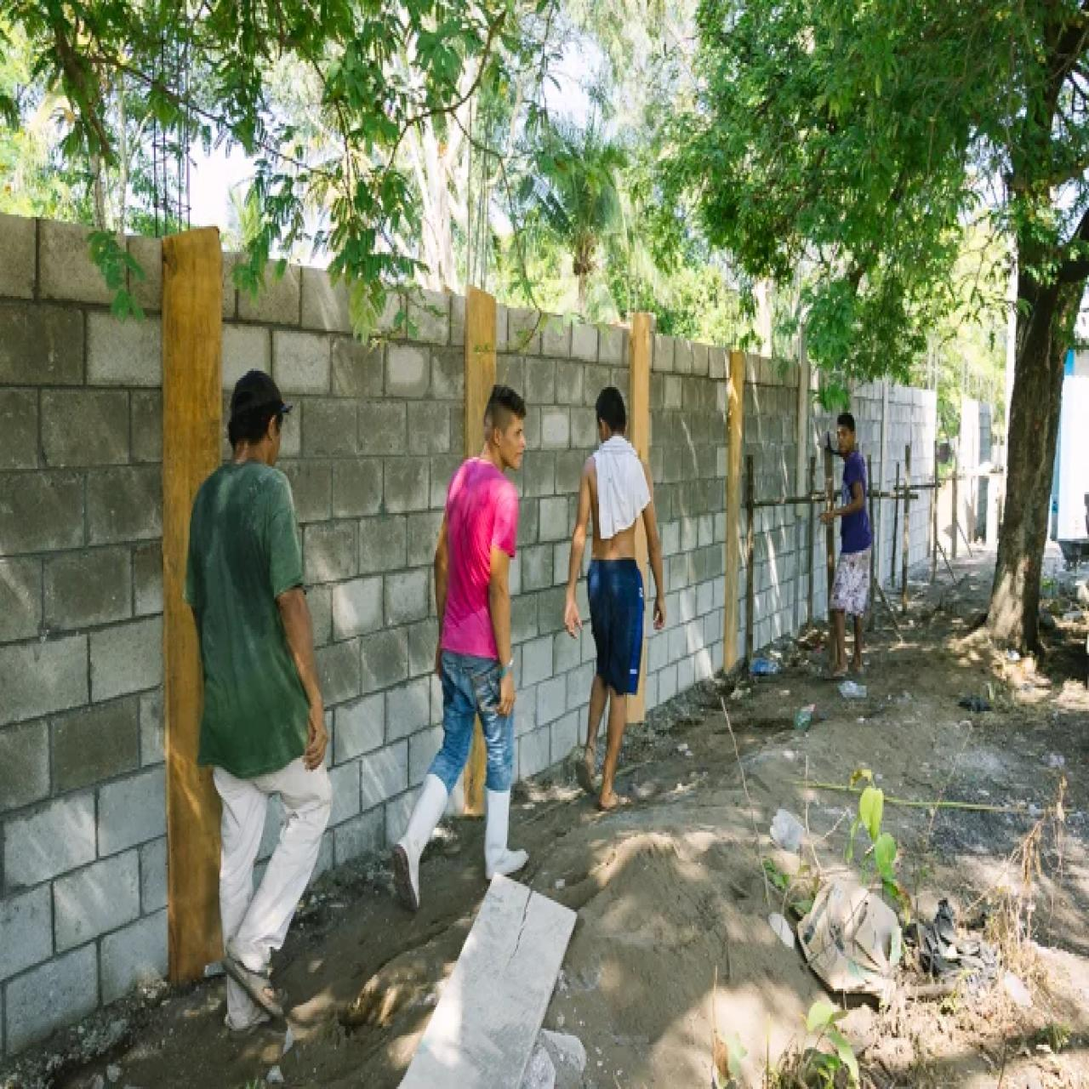NO_Safety_Vest: (185, 462, 302, 768), (443, 465, 509, 660), (587, 453, 637, 565), (839, 454, 870, 544)
Person: (157, 355, 339, 1038), (393, 382, 532, 901), (563, 379, 673, 809), (817, 386, 889, 704)
